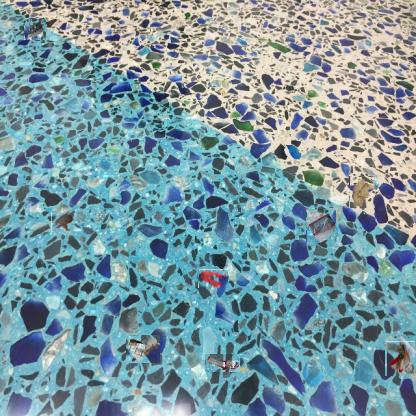dirty: (386, 341, 416, 376), (306, 209, 336, 243), (126, 335, 160, 363), (349, 176, 375, 208), (206, 354, 242, 372), (24, 18, 46, 40)
liquid: (198, 269, 228, 288), (51, 212, 74, 232)
